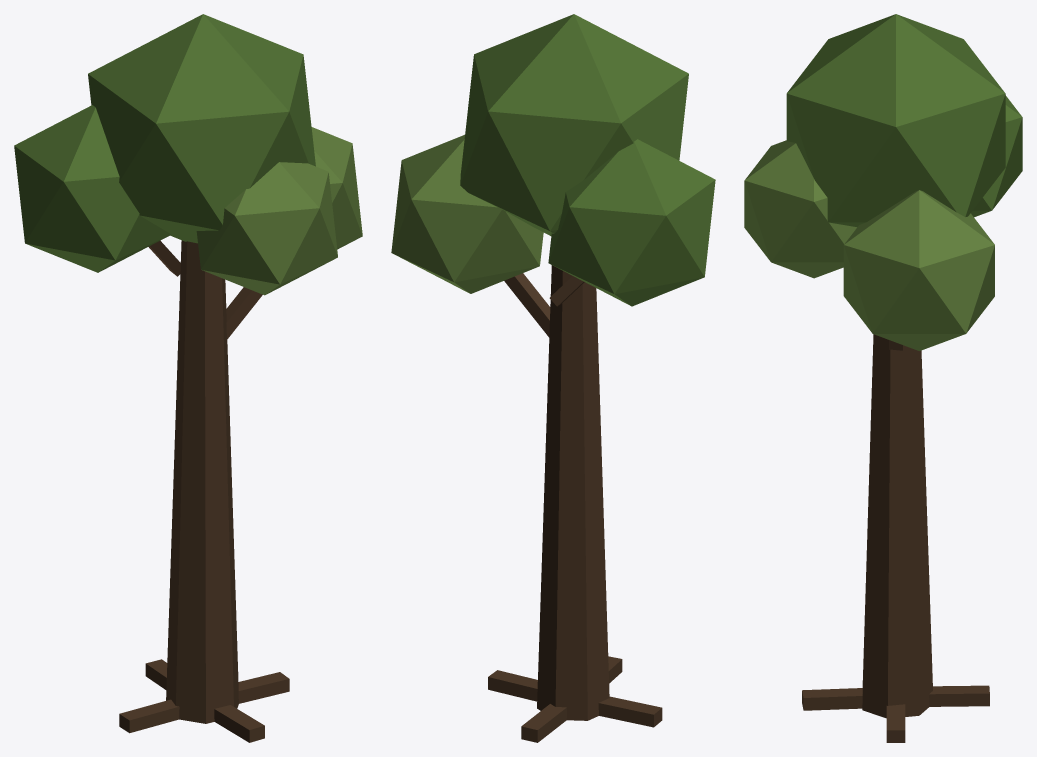
File: deco_tree.glb
3 views of the same model, side by side, from view 1: azimuth 30°, elevation 25°; view 2: azimuth 150°, elevation 25°; view 3: azimuth 270°, elevation 25° (orthographic).
Visible parts, largest first — view 1: leaves0, trunk, leaves2, leaves3, leaves1, root2, root3, root0, branch; view 2: leaves0, trunk, leaves2, leaves1, root2, branch, root0, root1; view 3: leaves0, trunk, leaves1, leaves3, leaves2, root3, root1, root0.
Part boxes in pixels (x1=…): leaves0: x1=88, y1=14, x2=315, y2=243; trunk: x1=166, y1=240, x2=238, y2=723; leaves2: x1=14, y1=105, x2=170, y2=272; leaves3: x1=196, y1=162, x2=337, y2=295; leaves1: x1=311, y1=127, x2=362, y2=249; root2: x1=119, y1=699, x2=179, y2=733; root3: x1=214, y1=705, x2=264, y2=742; root0: x1=238, y1=672, x2=289, y2=703; branch: x1=226, y1=287, x2=262, y2=339; leaves0: x1=460, y1=14, x2=688, y2=235; trunk: x1=537, y1=265, x2=609, y2=720; leaves2: x1=548, y1=139, x2=715, y2=306; leaves1: x1=391, y1=134, x2=543, y2=293; root2: x1=598, y1=696, x2=662, y2=727; branch: x1=504, y1=273, x2=550, y2=337; root0: x1=488, y1=670, x2=537, y2=701; root1: x1=521, y1=704, x2=566, y2=742; leaves0: x1=786, y1=14, x2=1005, y2=227; trunk: x1=862, y1=334, x2=932, y2=718; leaves1: x1=843, y1=190, x2=994, y2=350; leaves3: x1=744, y1=140, x2=856, y2=278; leaves2: x1=971, y1=95, x2=1022, y2=217; root3: x1=802, y1=688, x2=862, y2=710; root1: x1=929, y1=685, x2=989, y2=706; root0: x1=886, y1=704, x2=905, y2=742.
Size of the model in its own units: 1.55 by 3.25 by 1.19.
